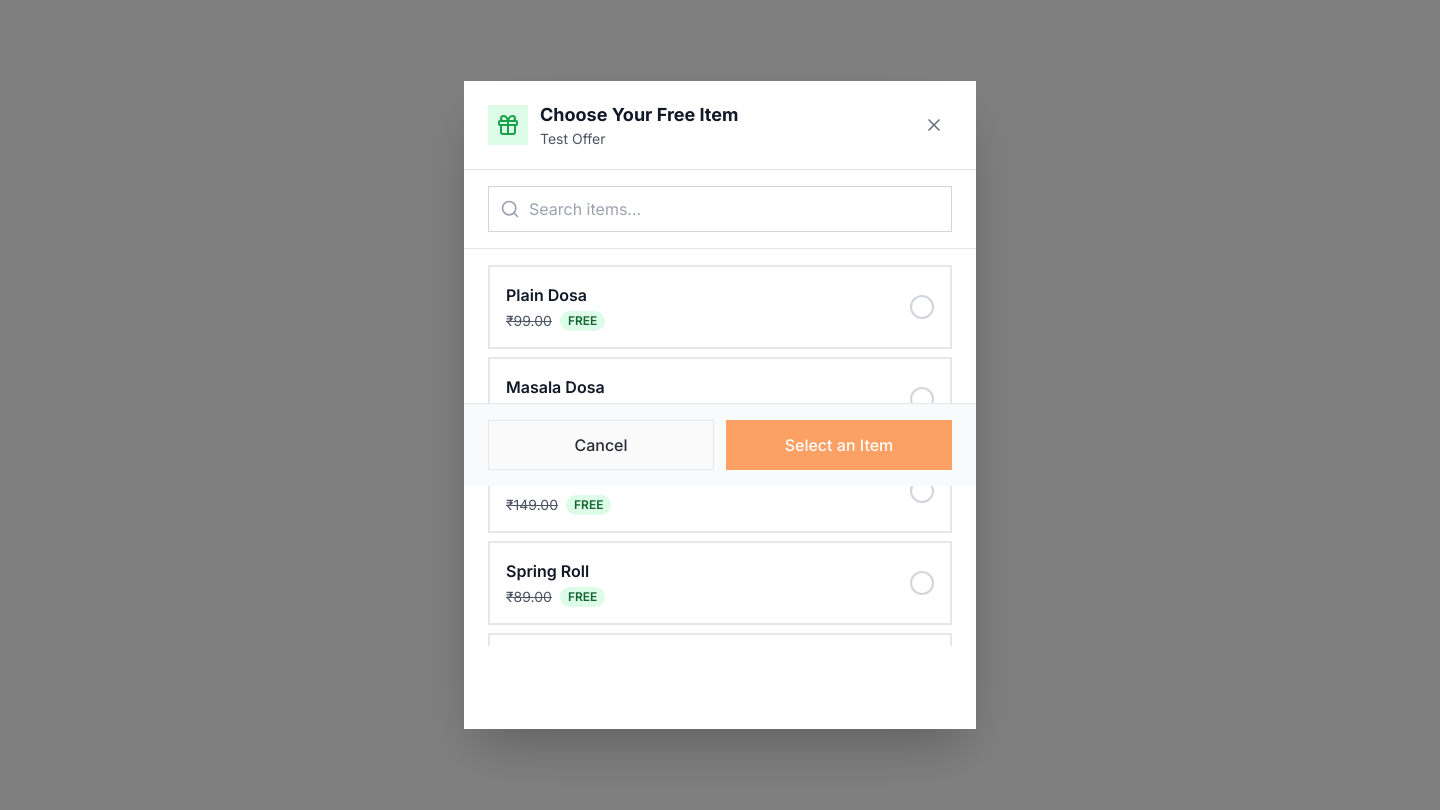
Test: FreeItemSelector Component - Guest UI › Search Functionality › should show no results when search has no matches
The width and height of the screenshot is (1440, 810).
In the field with placeholder "Search items...": (720, 209) [488,186,952,232], type "Pizza"
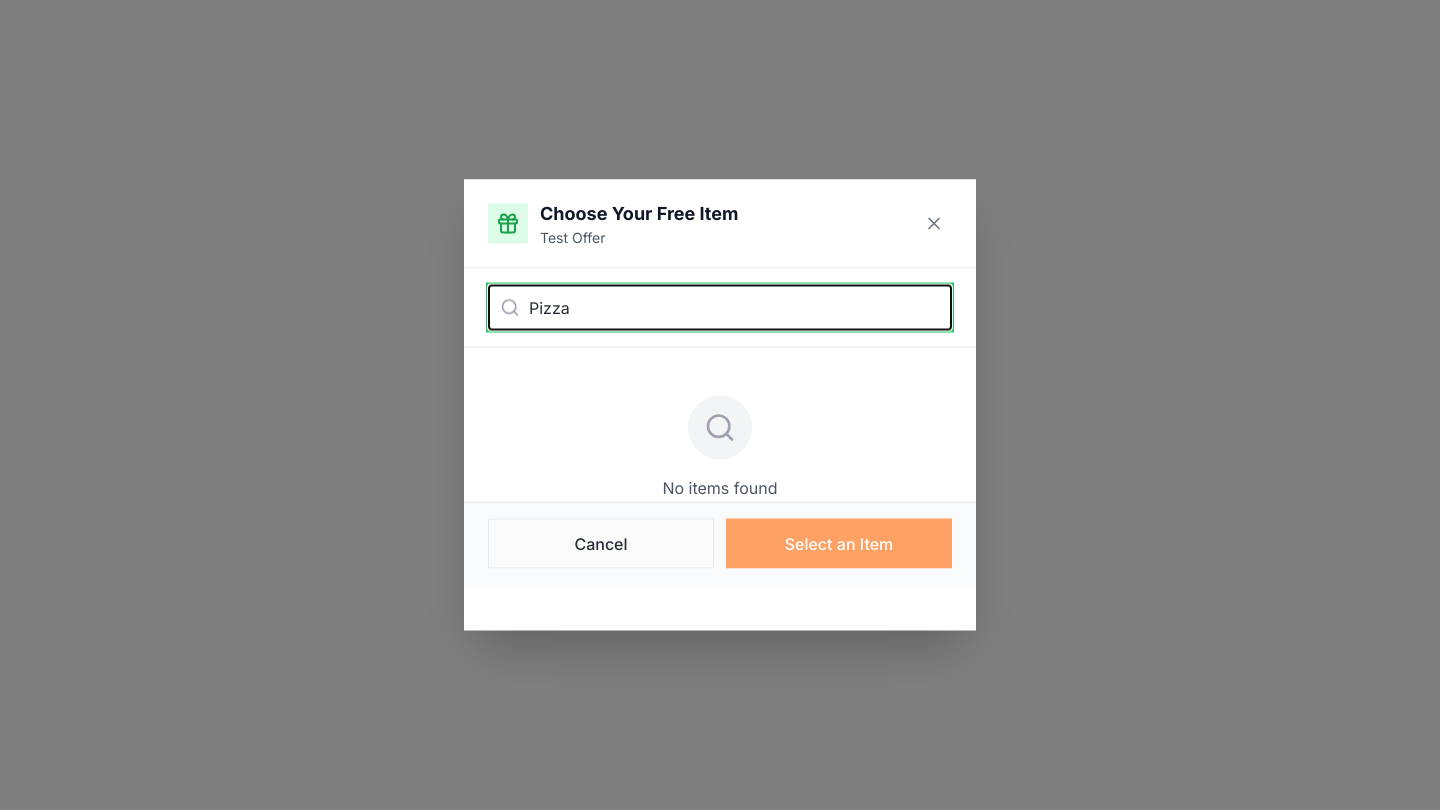
Expected: the button "Plain Dosa" is gone
Expected: the button "Masala Dosa" is gone
